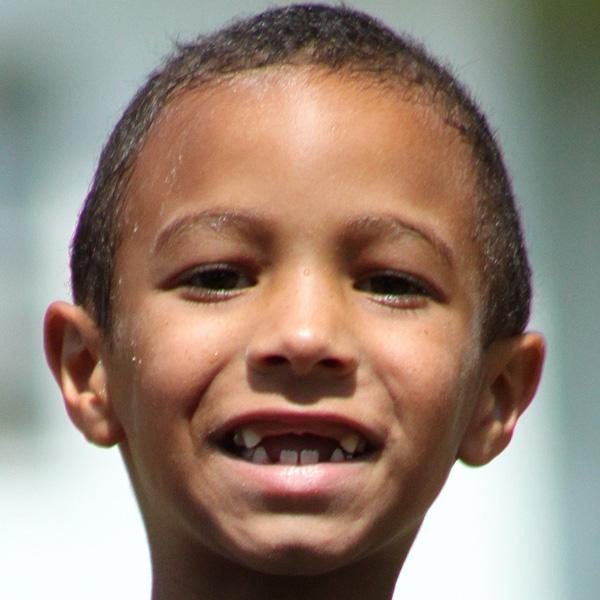Eyes: (340, 252, 447, 322), (155, 250, 265, 309)
